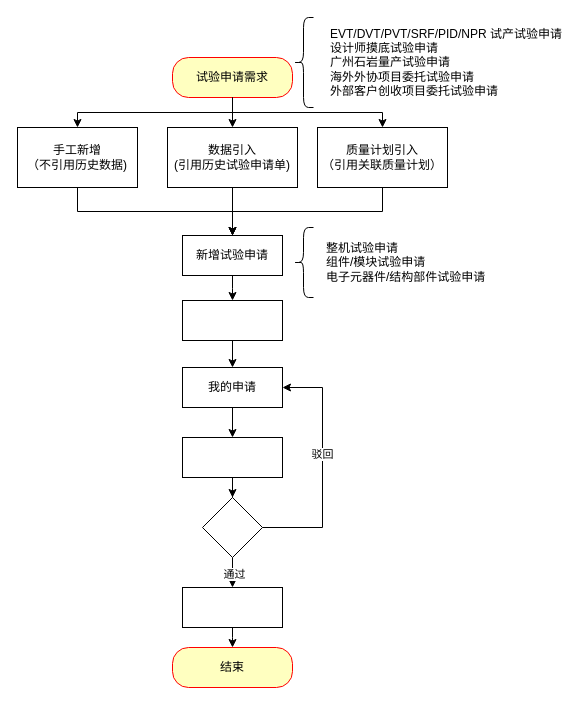
This 585x705 diagram has some shape labels left out. Each missing label, with the centre of its shape:
"审批" belongs at point (232, 527).
"提交申请" belongs at point (232, 320).
"申请处理" belongs at point (232, 457).
"项目计划" belongs at point (232, 607).
